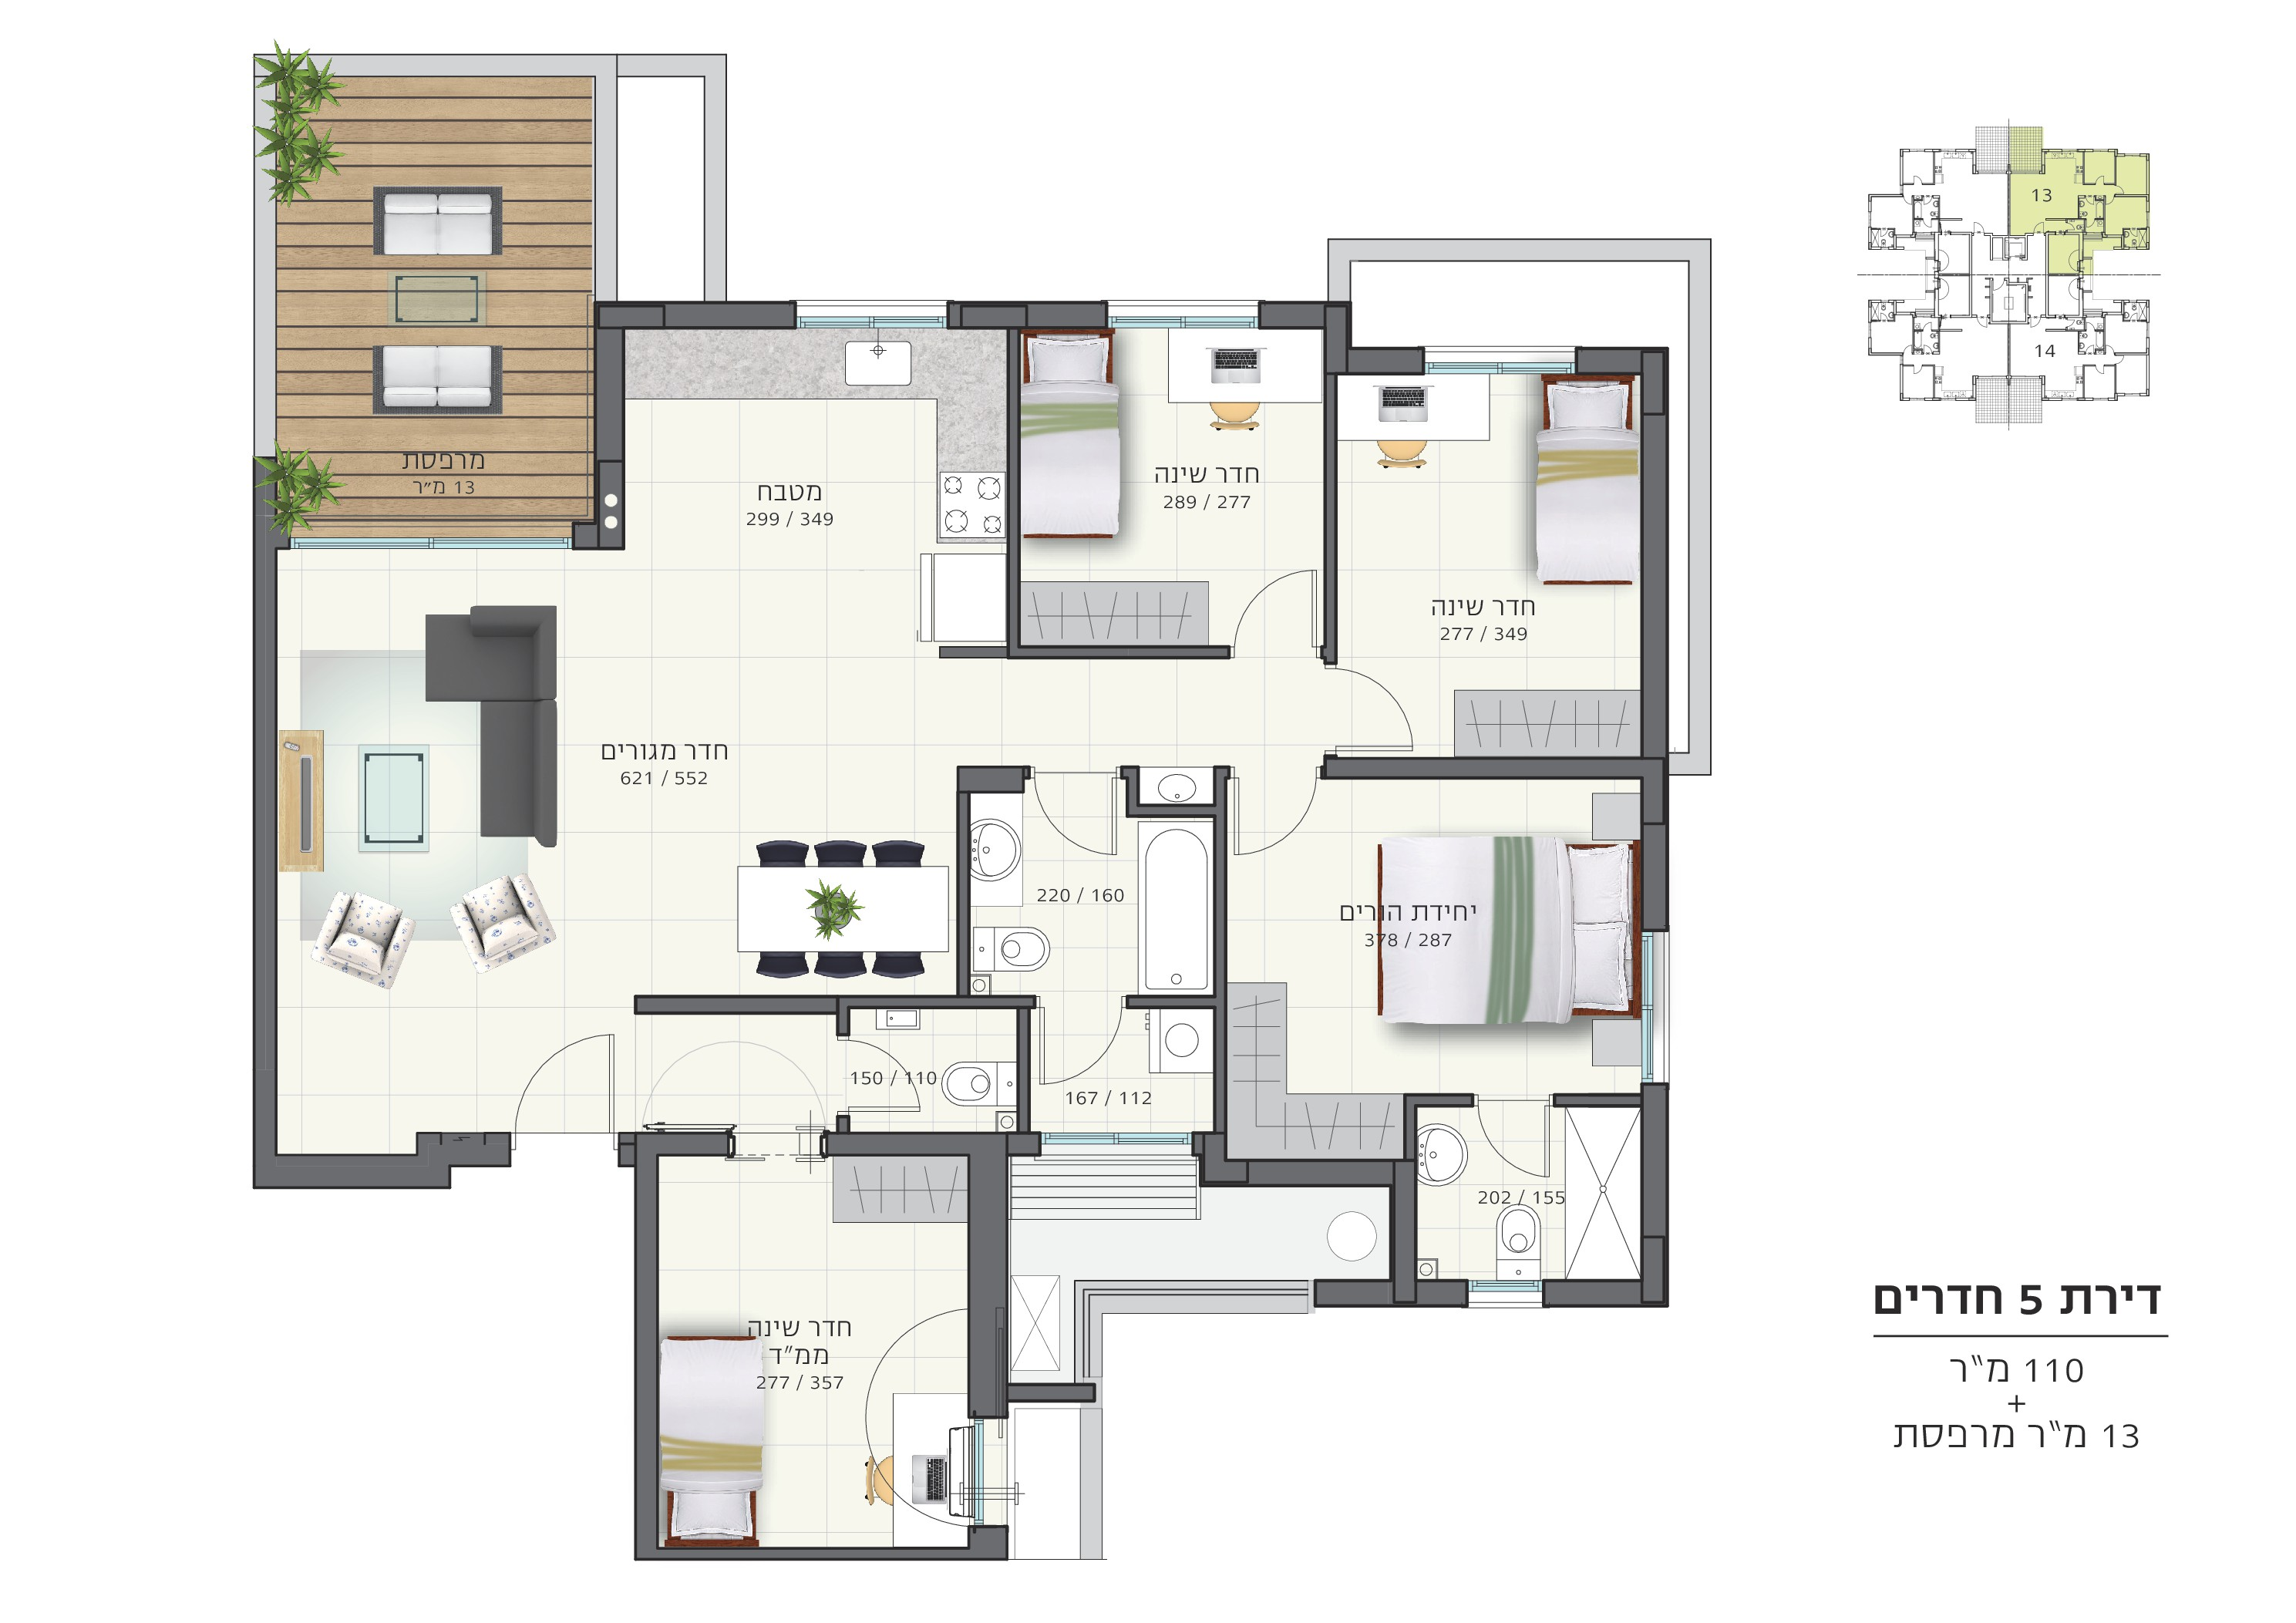door: (502, 1028, 618, 1117), (1214, 562, 1319, 639), (636, 1042, 726, 1129), (1036, 783, 1126, 871), (1231, 785, 1325, 864), (1344, 664, 1425, 754), (750, 1038, 829, 1129), (1035, 1017, 1128, 1089), (861, 1036, 926, 1122), (1477, 1117, 1556, 1180)
wall: (255, 513, 274, 1189), (1641, 348, 1671, 754), (636, 1135, 659, 1535), (1323, 757, 1664, 780), (968, 1133, 1007, 1296), (1200, 1159, 1414, 1187), (276, 1154, 446, 1189), (1323, 300, 1337, 660), (594, 300, 624, 464), (596, 54, 615, 300), (1212, 806, 1226, 1135), (634, 1547, 1008, 1560), (1007, 307, 1019, 660), (662, 300, 796, 328), (1391, 1158, 1416, 1307), (1007, 648, 1230, 659)
window: (798, 300, 942, 327), (1108, 304, 1256, 328), (430, 537, 571, 553), (1425, 348, 1502, 374), (1502, 346, 1572, 372), (1643, 1006, 1667, 1080), (290, 537, 430, 550), (1644, 934, 1667, 1006)
